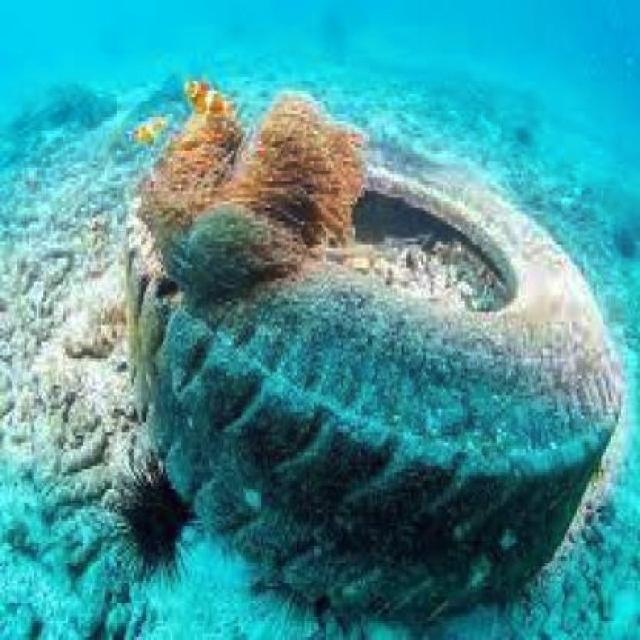tire: (136, 93, 621, 627)
